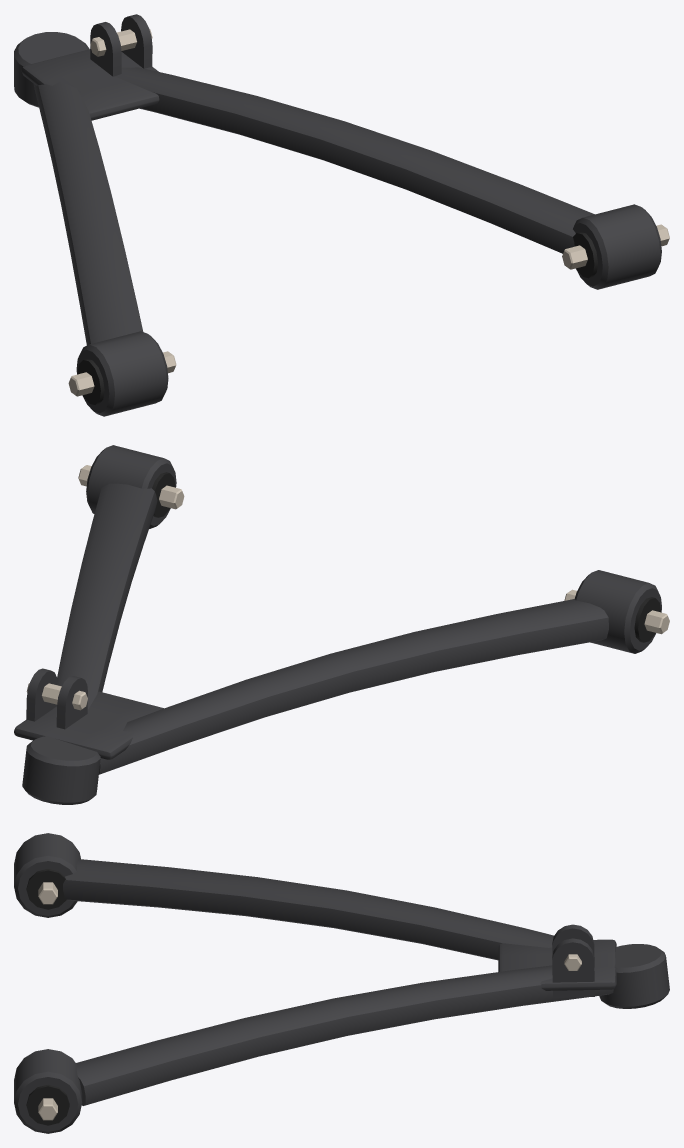
Rendered from SM_Susp_FL_LowerArm.fbx.
The picture shows the model from 3 angles, top to bottom: view 1: azimuth 30°, elevation 25°; view 2: azimuth 150°, elevation 25°; view 3: azimuth 270°, elevation 25°; orthographic projection. The views are drawn at different scales.
Parts seen in each view (by area): view 1: Export_Susp_FL_LowerArm; view 2: Export_Susp_FL_LowerArm; view 3: Export_Susp_FL_LowerArm.
Part boxes in pixels (bbox=[...]): Export_Susp_FL_LowerArm: bbox=[14, 14, 669, 416]; Export_Susp_FL_LowerArm: bbox=[14, 445, 669, 804]; Export_Susp_FL_LowerArm: bbox=[14, 833, 669, 1133].
Size of the model in its own units: 0.4998 by 0.4801 by 0.0848.
